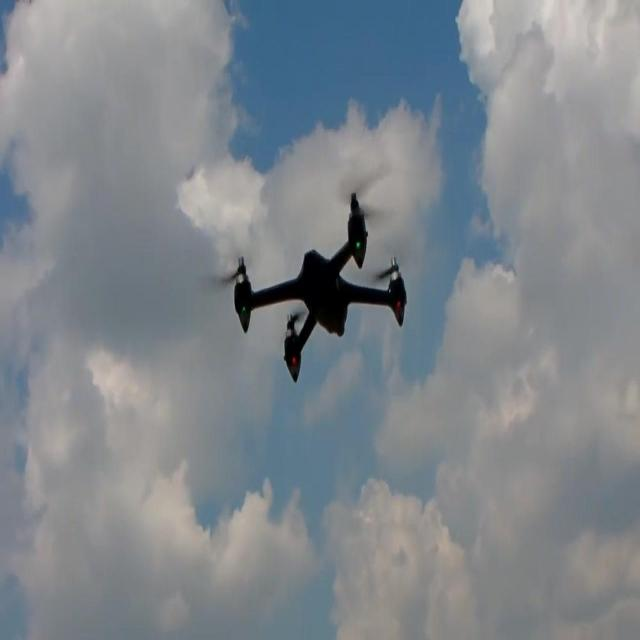drone: (233, 188, 410, 386)
